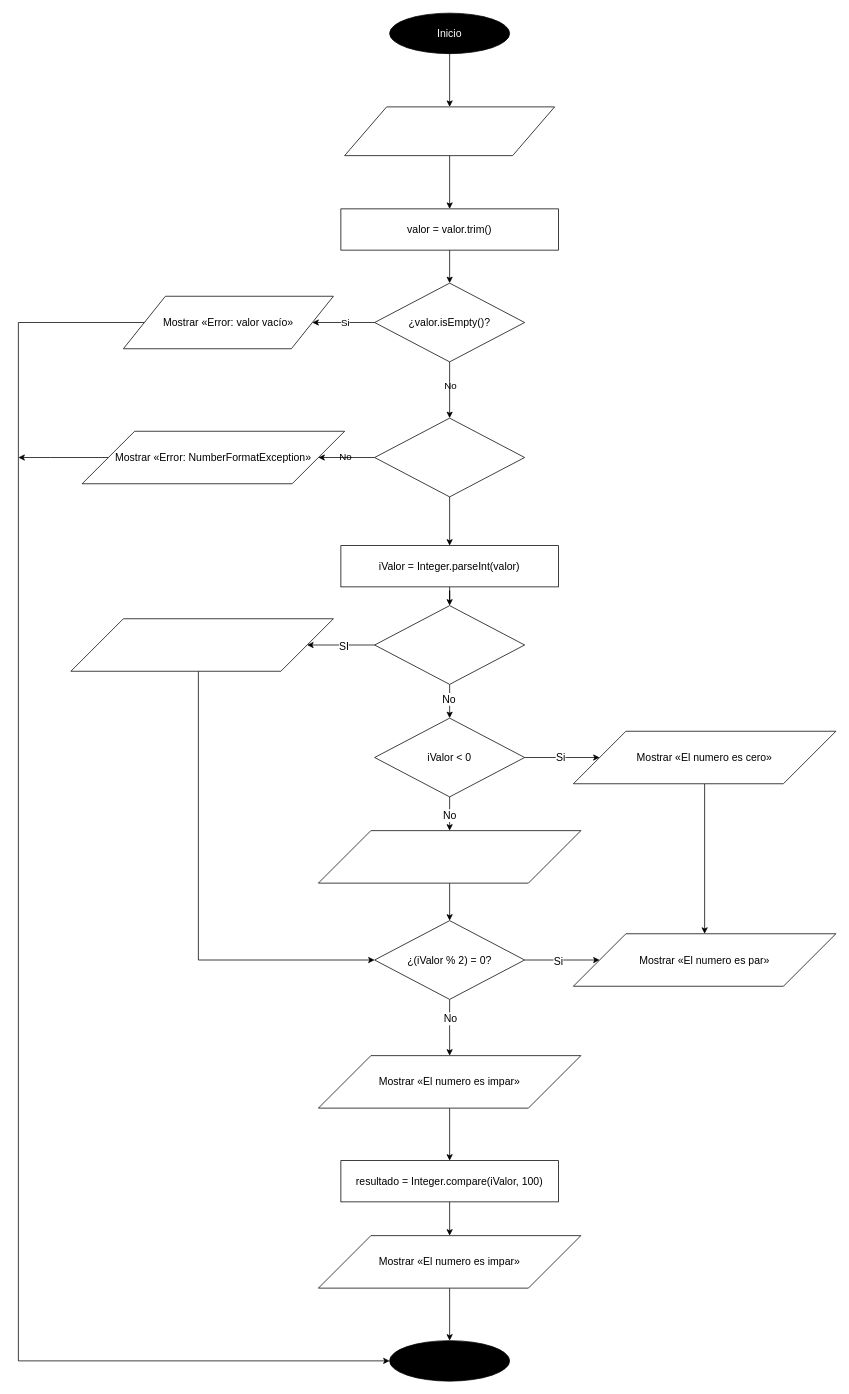
Image size: 849x1394. Some labels were removed from this diagram. The shapes that lost their labels are listed below. From the top down, each one's centre as x and y in pixels, then its label:
the point at 449,131: Leer el valor
the point at 449,457: ¿se puede convertir con Integer.parseInt()?
the point at 201,644: Mostrar «El numero es positivo»
the point at 449,644: iValor > 0
the point at 449,856: Mostrar «El numero es negativo»
the point at 449,1360: Fin
